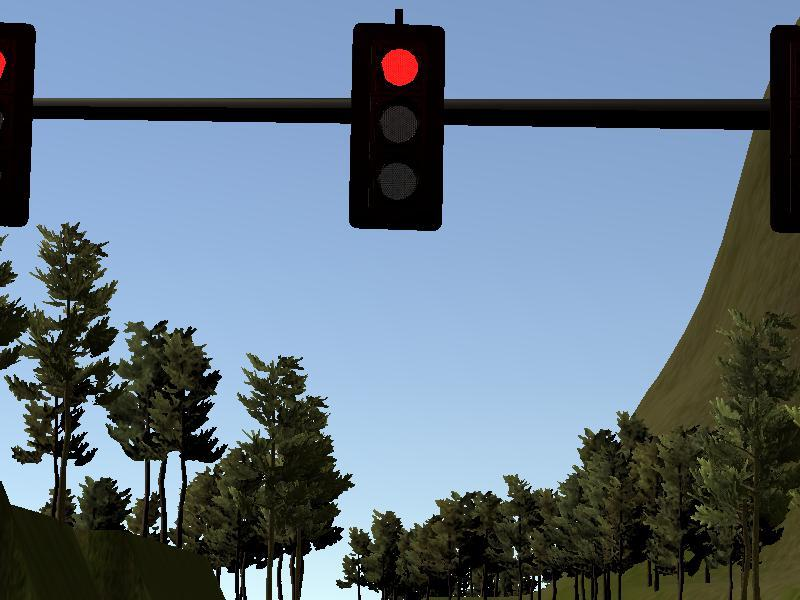Red: (353, 25, 443, 228), (1, 22, 30, 225)
